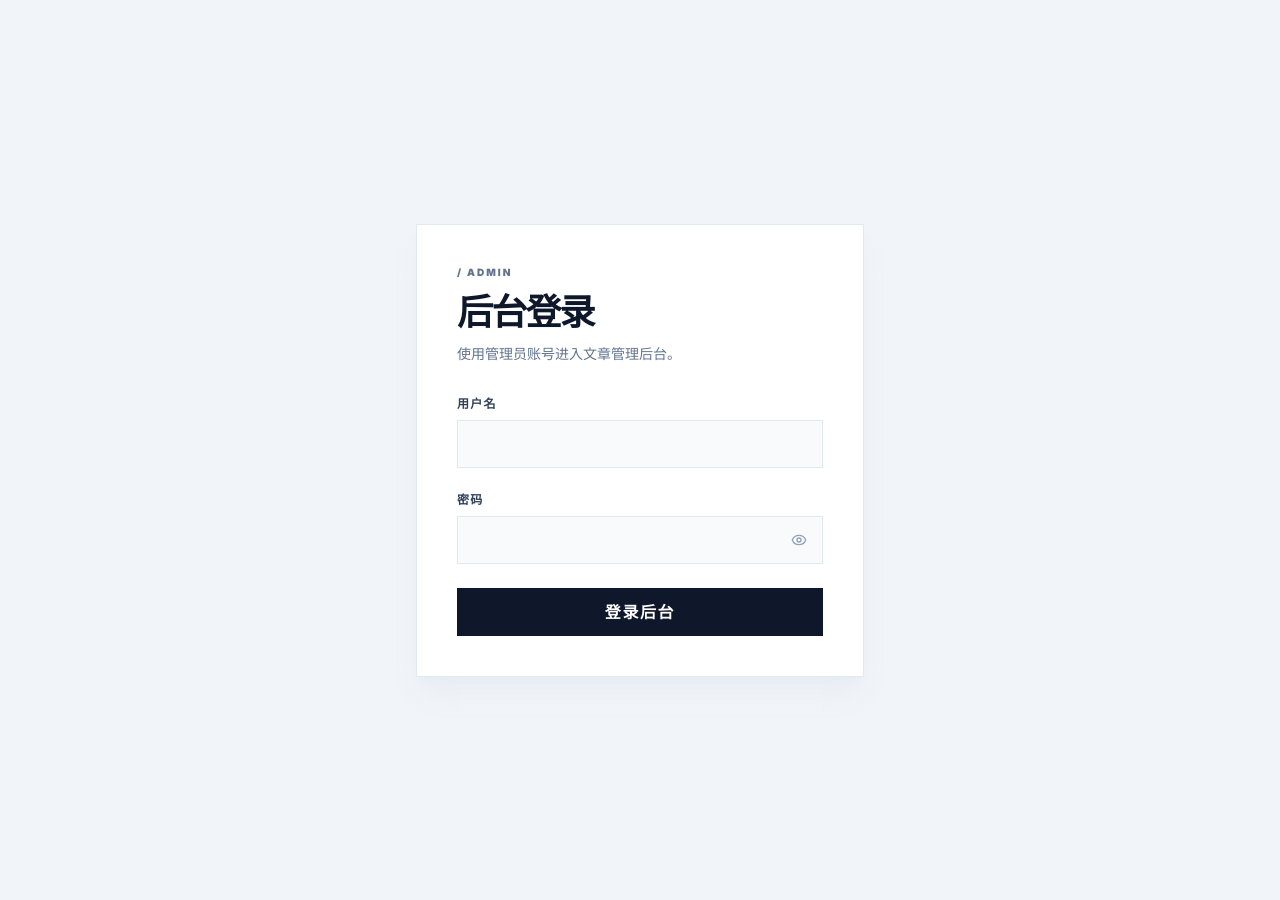
Test case: AdminLogin page › submits credentials and redirects to admin posts
The width and height of the screenshot is (1280, 900).
Type "admin" into the field labelled "用户名". click: (640, 444)
box: [457,420,823,468]
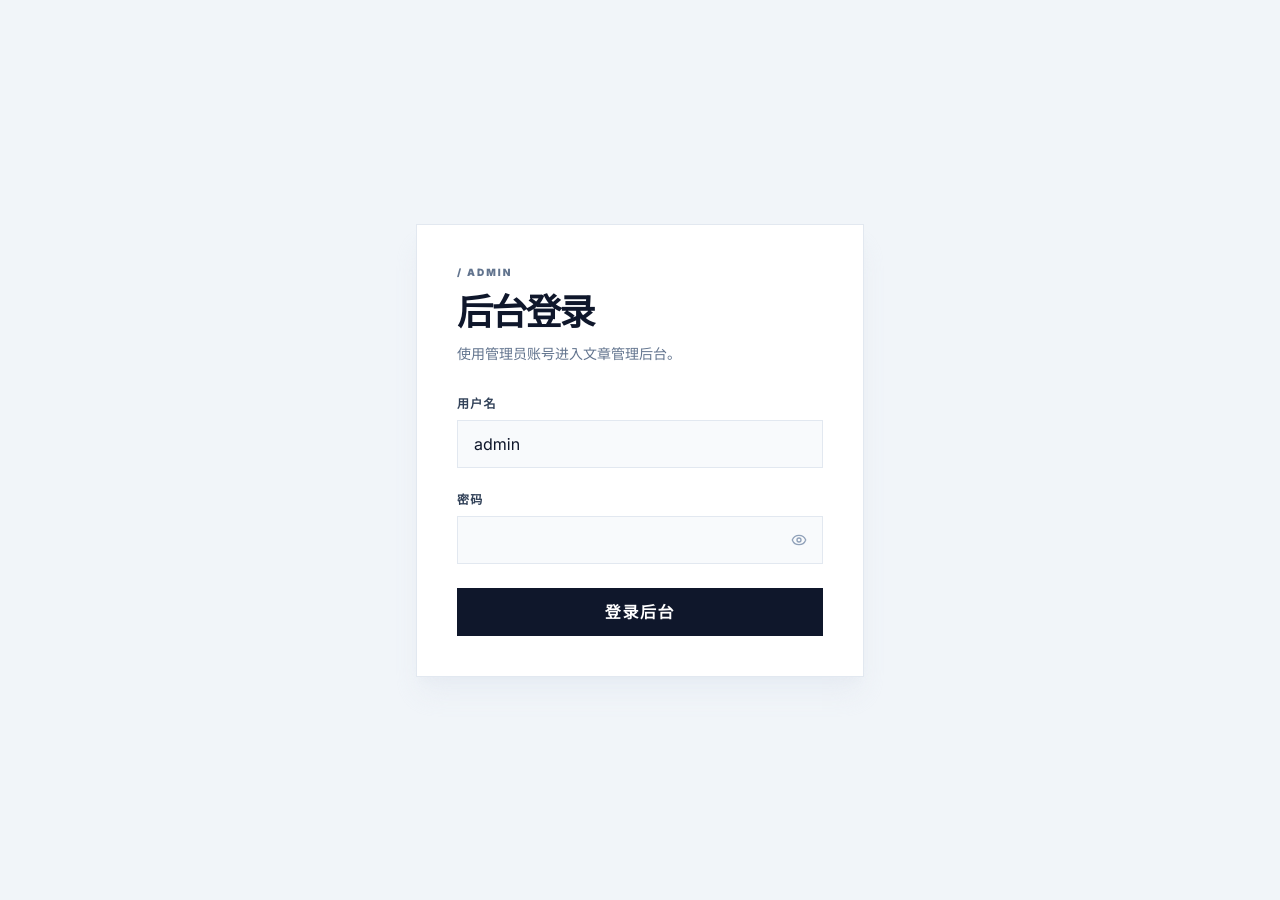
Type "admin123456" into the password field labelled "密码". click: (640, 540)
box: [457,516,823,564]
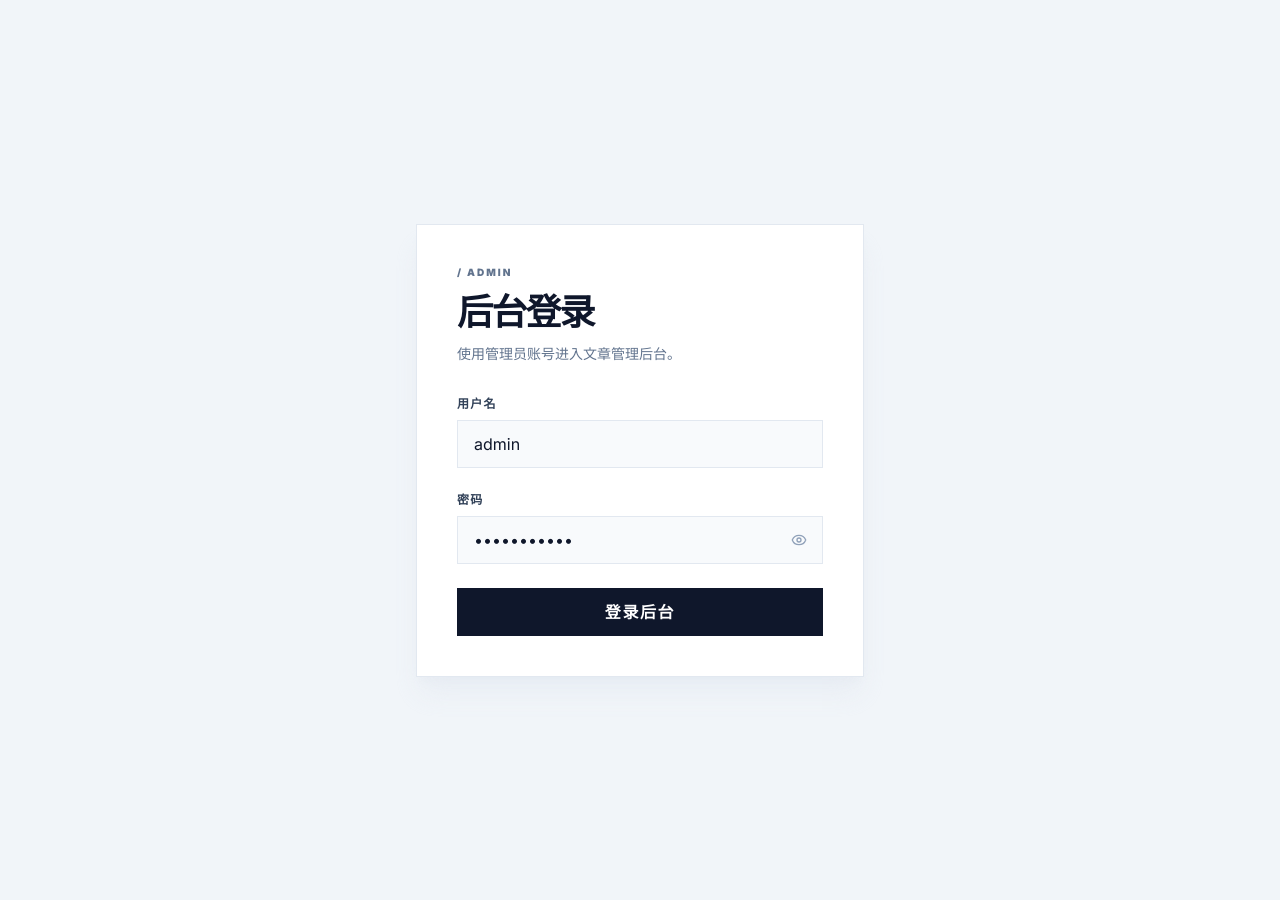
Click the button "登录后台". click: (640, 612)
box: [457,588,823,636]
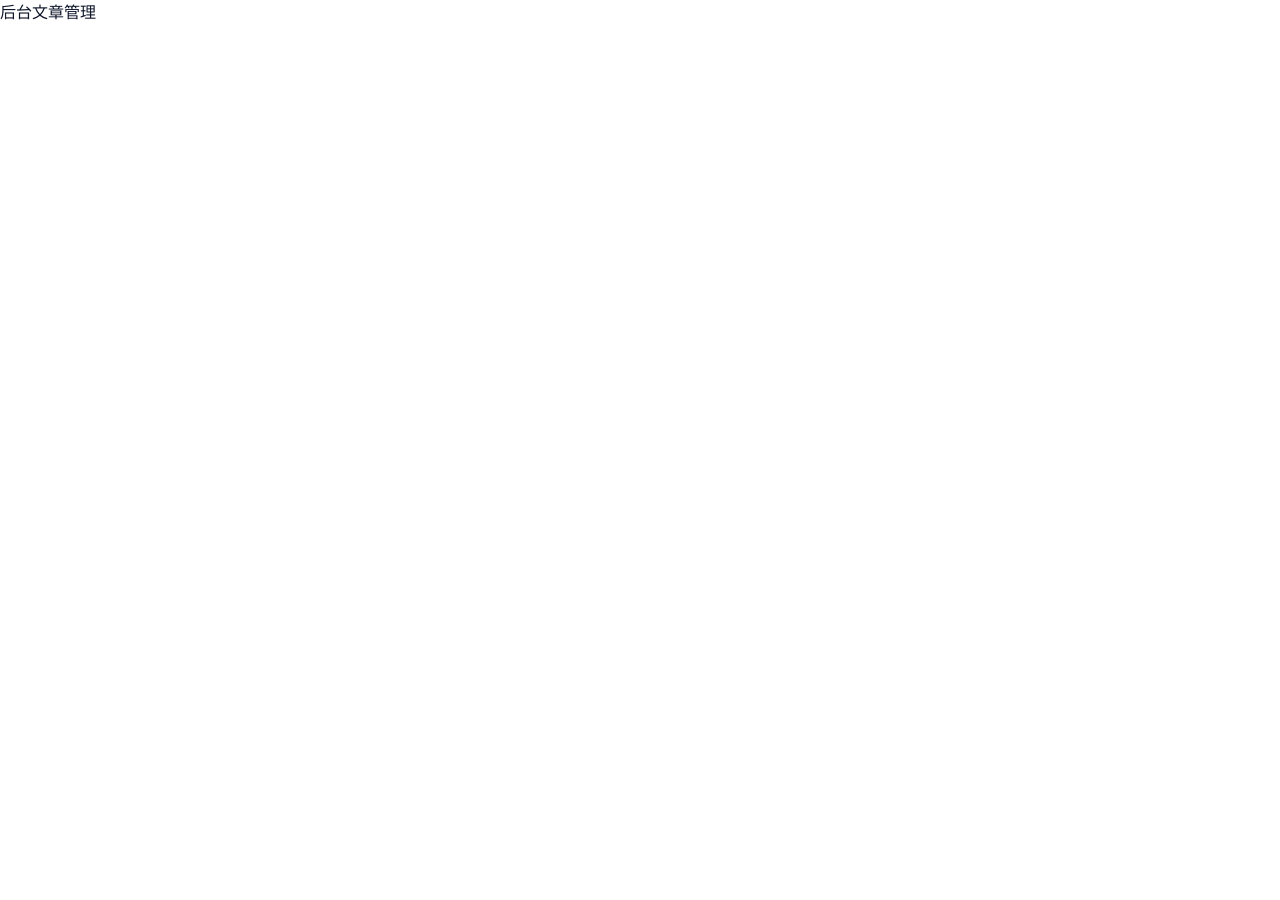
Check: the text "后台文章管理" is shown, box [0,2,96,22]
